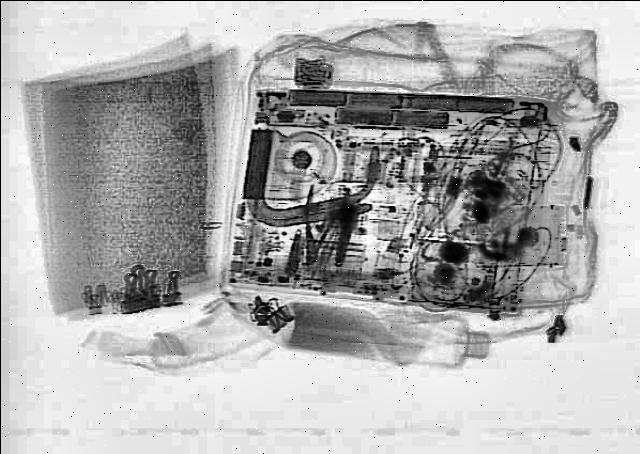Pliers: (288, 180, 350, 266)
